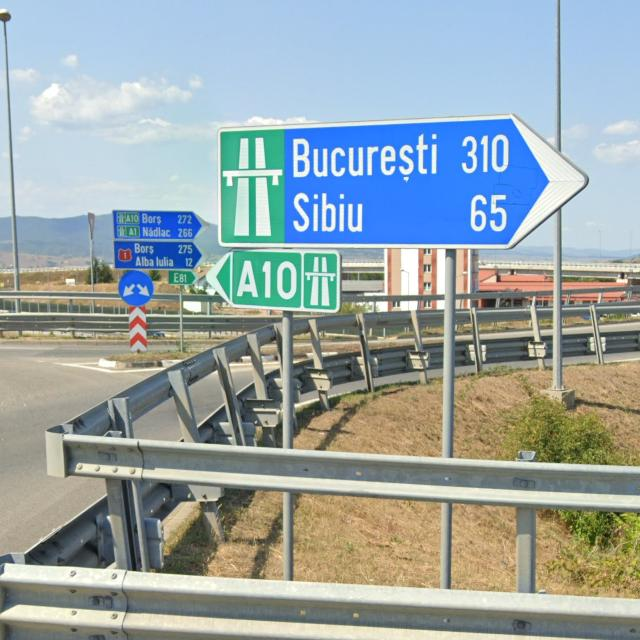info_highway: (219, 126, 284, 244), (301, 251, 338, 313), (116, 211, 125, 224), (117, 225, 126, 237)
mand_pass_left_right: (118, 270, 154, 306)
